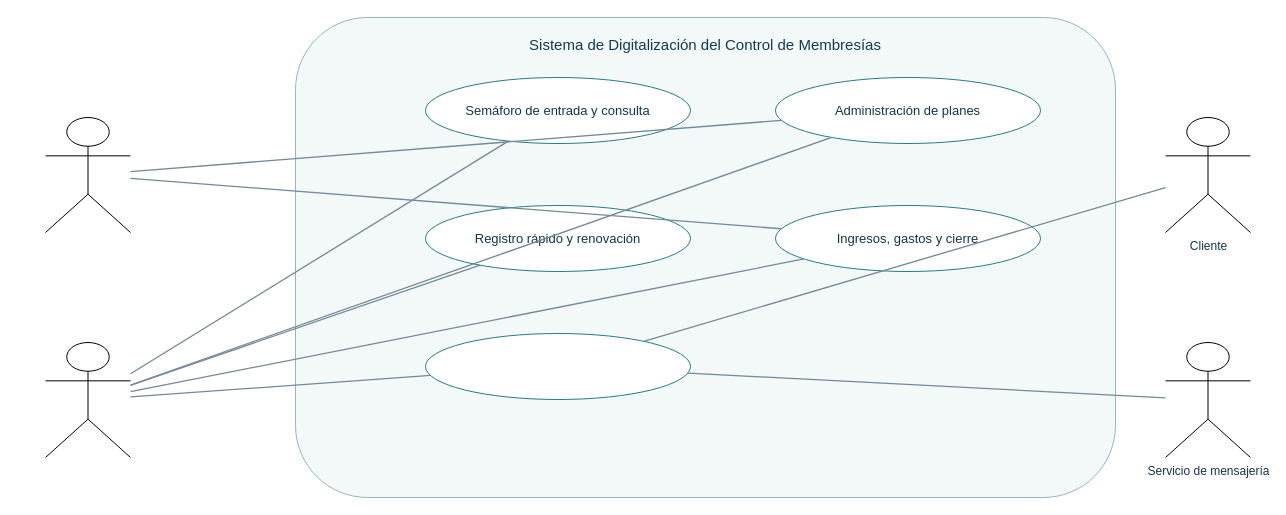
Image size: 1286x515. Some labels were removed from this diagram. The shapes that lost their labels are listed below. From the top down, each one's centre as x and y in pixels, then its label:
At point (87, 174): "Administrador / propietario".
At point (557, 366): "Comprobante digital".
At point (87, 400): "Recepcionista".
